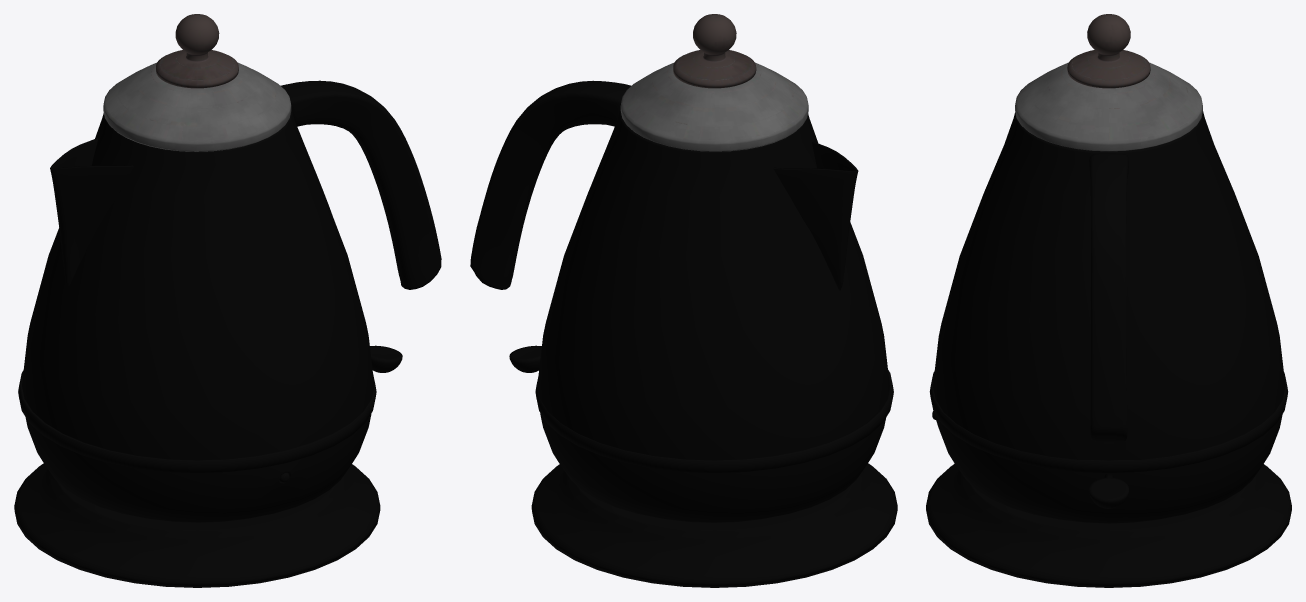
File: bk_kettle.glb
3 renders of one model, left to right at view 1: azimuth 30°, elevation 25°; view 2: azimuth 150°, elevation 25°; view 3: azimuth 270°, elevation 25°, orthographic.
Parts seen in each view (by area): view 1: Kitchen Kettle-handle, Kitchen Kettle-stand, Kitchen Kettle-lid, Kitchen Kettle-lever; view 2: Kitchen Kettle-handle, Kitchen Kettle-stand, Kitchen Kettle-lid, Kitchen Kettle-lever; view 3: Kitchen Kettle-handle, Kitchen Kettle-stand, Kitchen Kettle-lid, Kitchen Kettle-lever.
Boxes of the visible parts, bbox=[...] form: Kitchen Kettle-handle: bbox=[18, 80, 441, 522]; Kitchen Kettle-stand: bbox=[14, 463, 380, 587]; Kitchen Kettle-lid: bbox=[103, 14, 291, 151]; Kitchen Kettle-lever: bbox=[370, 345, 402, 372]; Kitchen Kettle-handle: bbox=[470, 80, 893, 522]; Kitchen Kettle-stand: bbox=[531, 463, 897, 587]; Kitchen Kettle-lid: bbox=[620, 14, 808, 151]; Kitchen Kettle-lever: bbox=[509, 345, 541, 372]; Kitchen Kettle-handle: bbox=[929, 111, 1288, 523]; Kitchen Kettle-stand: bbox=[926, 463, 1291, 587]; Kitchen Kettle-lid: bbox=[1015, 14, 1202, 151]; Kitchen Kettle-lever: bbox=[1089, 473, 1128, 508].
Bounding box in the file's own units: 0.2412 × 0.2885 × 0.1929.
5 materials, 5 textured.
